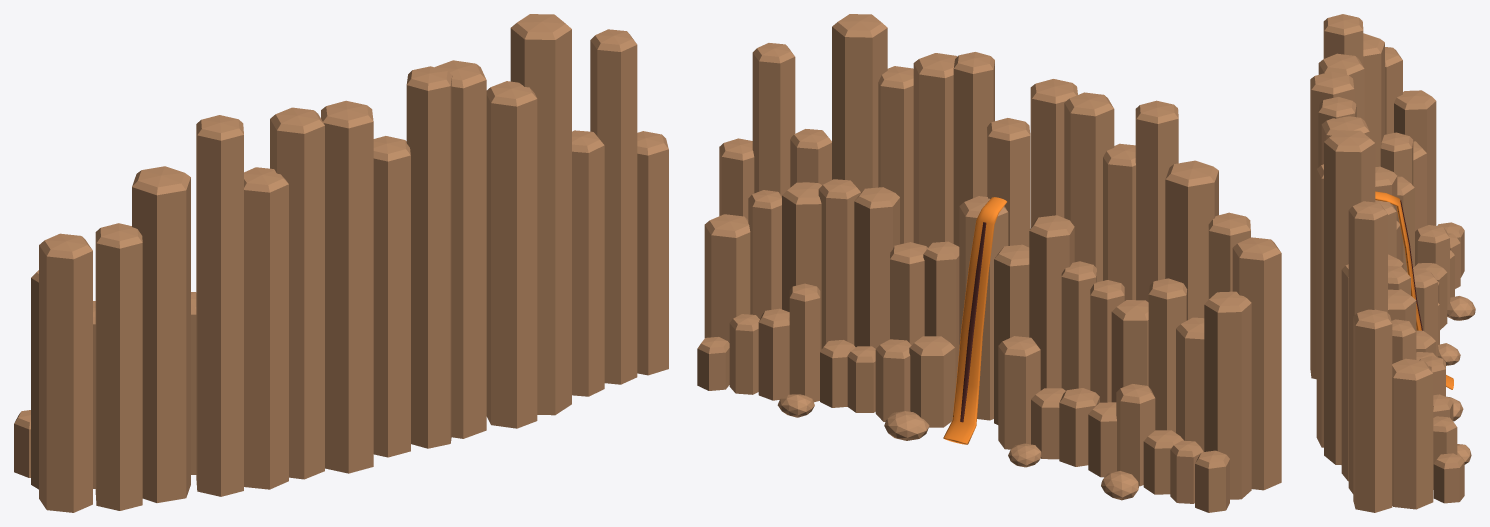
File: BasaltWall.obj
The picture shows the model from 3 angles, left to right: view 1: azimuth 30°, elevation 25°; view 2: azimuth 150°, elevation 25°; view 3: azimuth 270°, elevation 25°; orthographic projection. The views are drawn at different scales.
Visible parts, largest first — view 1: Rock; view 2: Rock, Lava, Crust; view 3: Rock, Lava, Crust.
Part boxes in pixels (x1,y1,x2,y2): Rock: (14,14,668,512); Rock: (697,14,1281,512); Lava: (943,197,1006,444); Crust: (960,222,986,422); Rock: (1310,14,1475,512); Lava: (1375,191,1453,389); Crust: (1400,200,1422,330).
Bounding box in the file's own units: 98.25 × 59.24 × 27.2.
